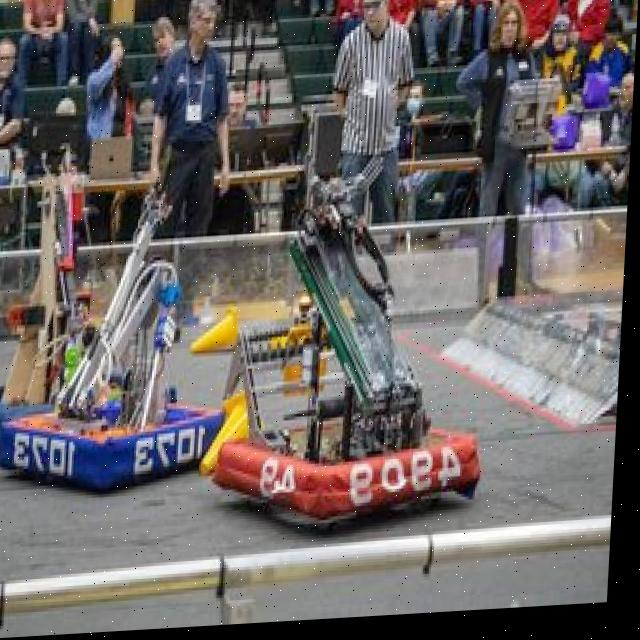robot: (208, 143, 512, 545), (2, 170, 249, 507), (0, 156, 123, 454)
